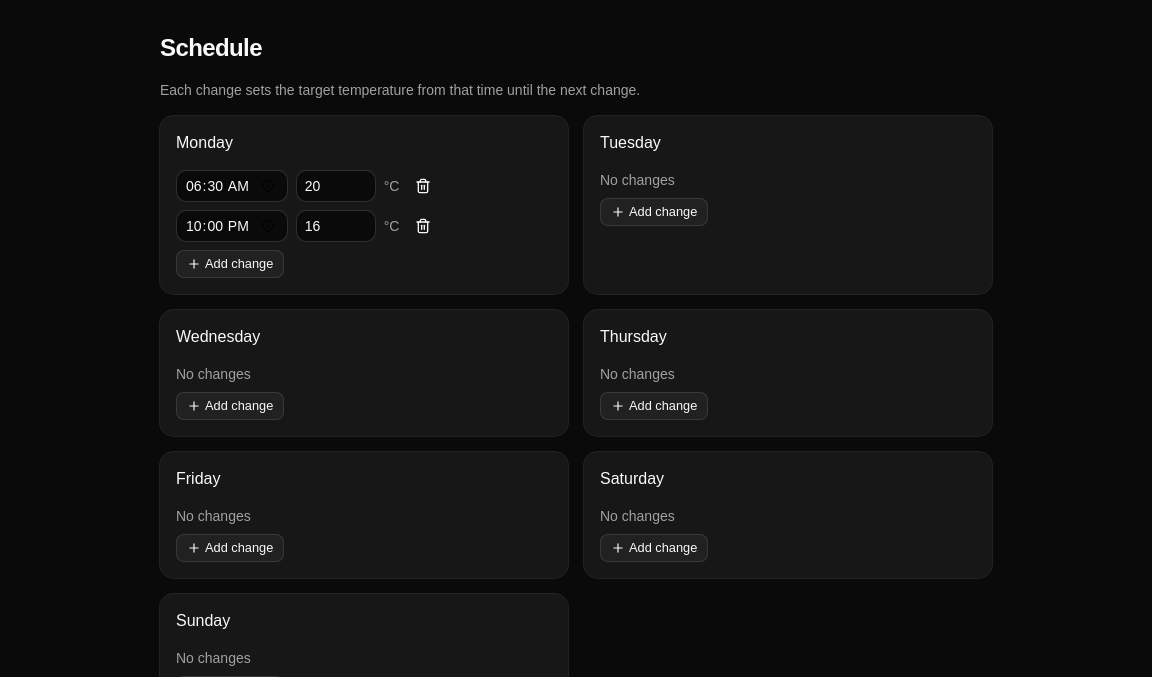
Test: ScheduleEditor › removes a change
The image size is (1152, 677).
Expected: the time field named "Monday change 1 time" is shown, 176,170 -> 288,202
Click the button named "Remove Monday change 1": coordinates (423, 186) 407,170 -> 439,202
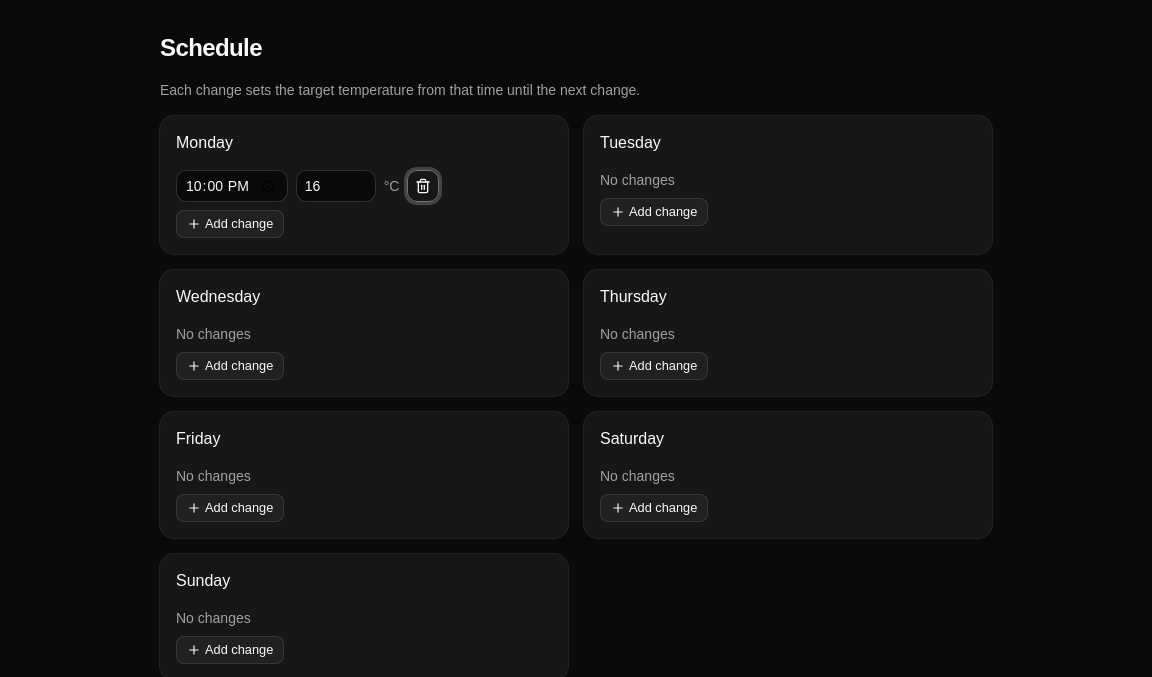
Result: the time field named "Monday change 1 time" holds "22:00" at 176,170 -> 288,202
